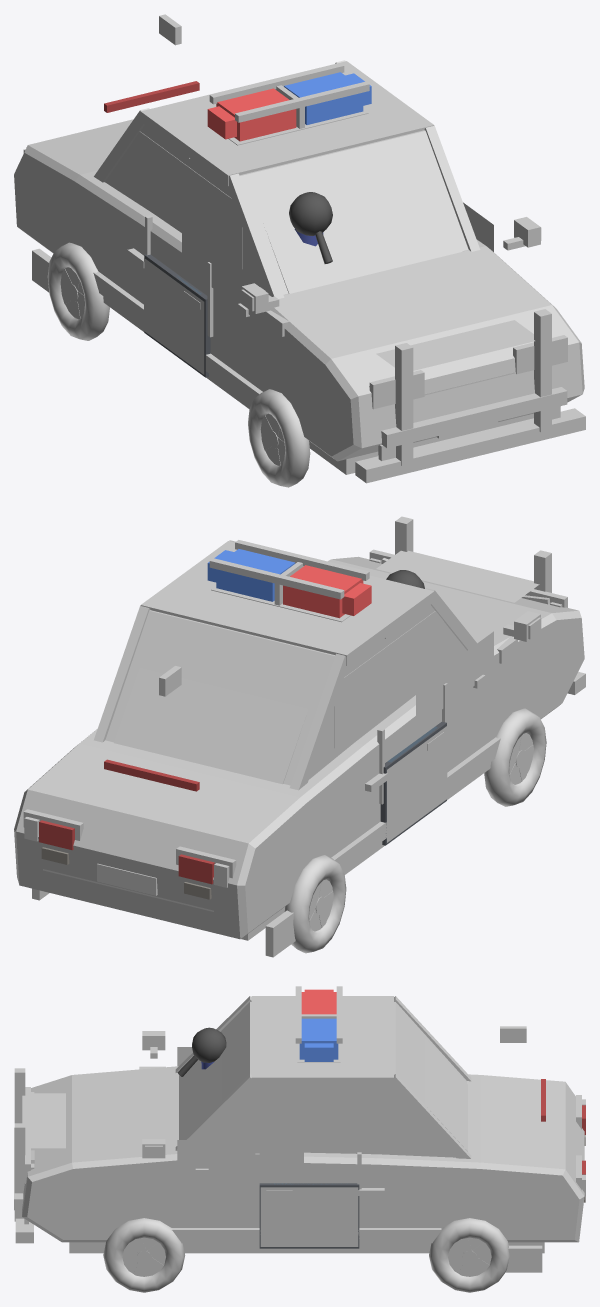
Rendered from car_cop.glb.
3 renders of one model, top to bottom at view 1: azimuth 30°, elevation 25°; view 2: azimuth 150°, elevation 25°; view 3: azimuth 270°, elevation 25°, orthographic. The views are drawn at different scales.
Parts seen in each view (by area): view 1: prop; view 2: prop; view 3: prop.
Part boxes in pixels (x1,y1,x2,y2): prop: [14, 14, 585, 487]; prop: [14, 516, 585, 957]; prop: [14, 986, 585, 1292].
Bounding box in the file's own units: 2.25 × 2.13 × 4.74.
